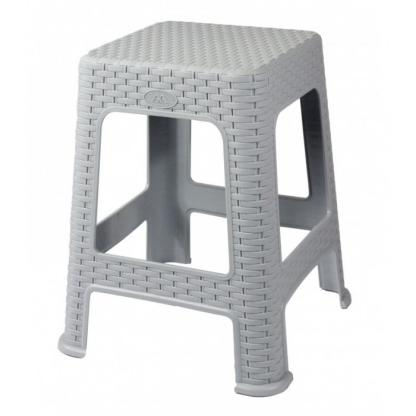chair: (55, 21, 358, 400)
